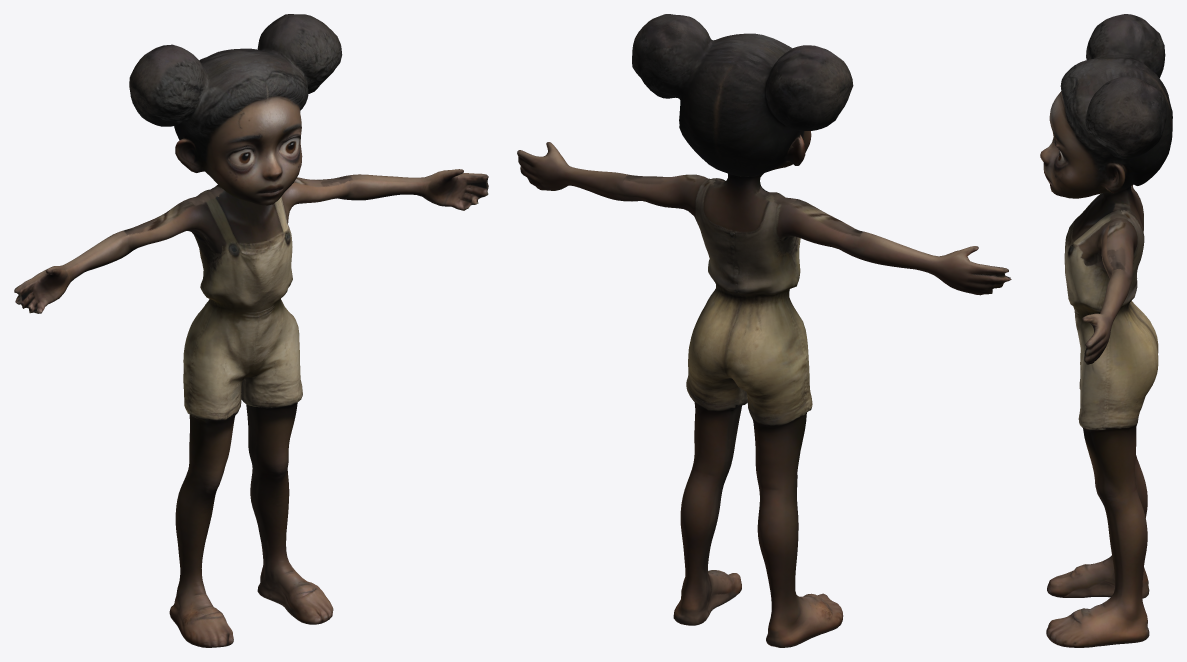
File: Amara.fbx
3 renders of one model, left to right at view 1: azimuth 30°, elevation 25°; view 2: azimuth 150°, elevation 25°; view 3: azimuth 270°, elevation 25°, orthographic. The views are drawn at different scales.
Parts seen in each view (by area): view 1: Mesh1.0; view 2: Mesh1.0; view 3: Mesh1.0.
Part boxes in pixels (left/top/right/bottom): Mesh1.0: left=14, top=14, right=488, bottom=647; Mesh1.0: left=517, top=14, right=1011, bottom=647; Mesh1.0: left=1040, top=14, right=1172, bottom=647.
Bounding box in the file's own units: 172 × 200 × 42.28.
1 material, 1 textured.
